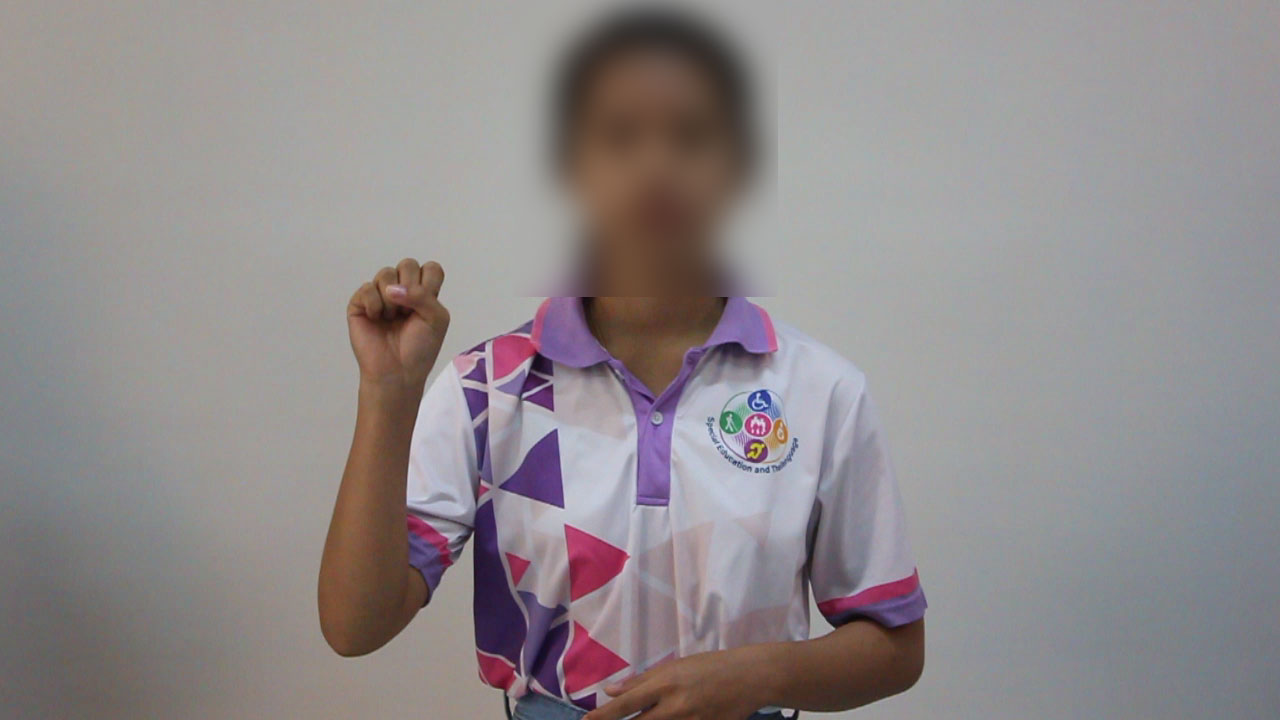sor: (323, 238, 466, 403)
